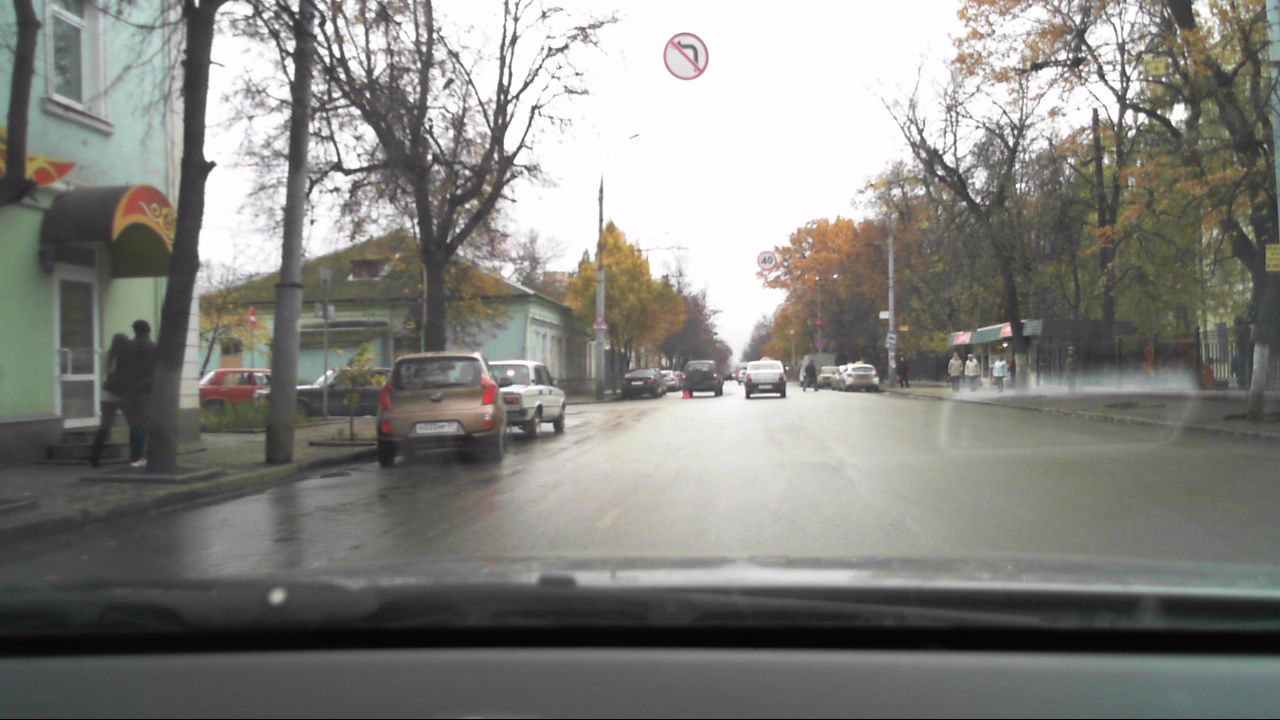speed_warning_40: (756, 251, 779, 273)
